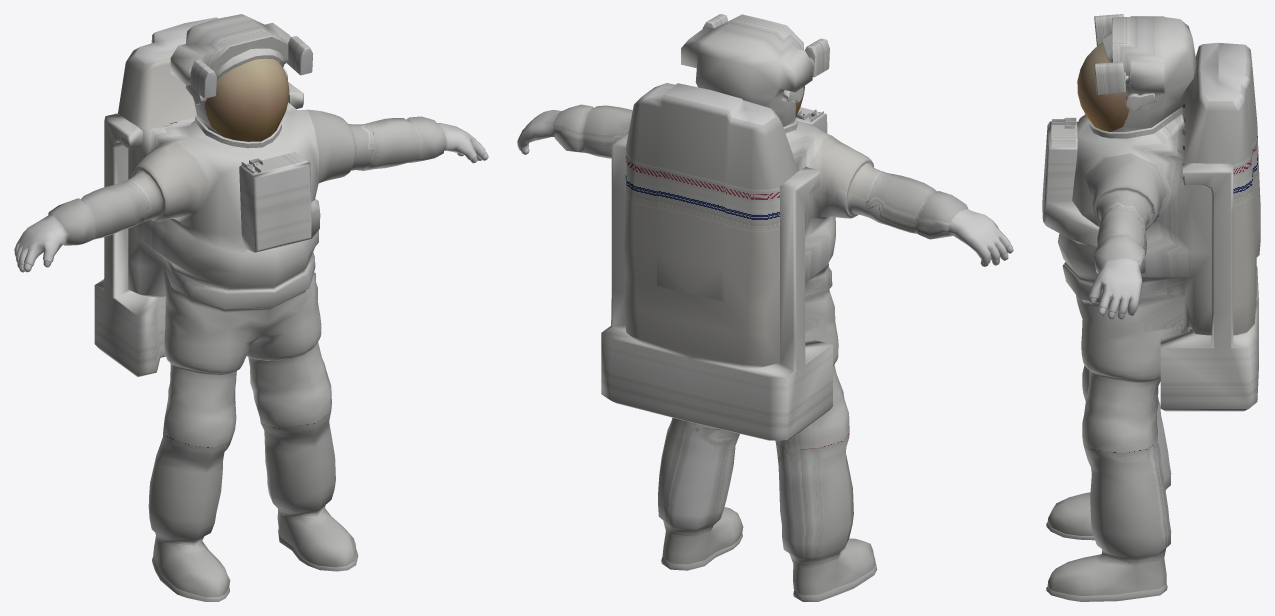
File: astronaut.glb
3 views of the same model, side by side, from view 1: azimuth 30°, elevation 25°; view 2: azimuth 150°, elevation 25°; view 3: azimuth 270°, elevation 25° (orthographic). The views are drawn at different scales.
Visible parts, largest first — view 1: astronaut1; view 2: astronaut1; view 3: astronaut1.
Part boxes in pixels (x1,y1,x2,y2): astronaut1: (14,14,488,601); astronaut1: (517,14,1013,601); astronaut1: (1042,14,1260,601).
Bounding box in the file's own units: 68.91 × 74.26 × 27.6.
Materials: 2 (2 with a texture image).
